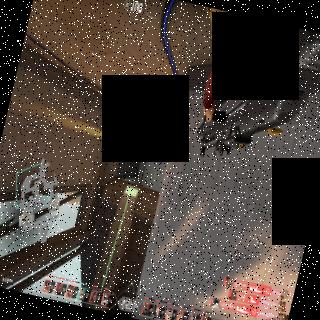ENEMY-BODY: (156, 122, 174, 165)
ENEMY-HEAD: (158, 156, 162, 164)
